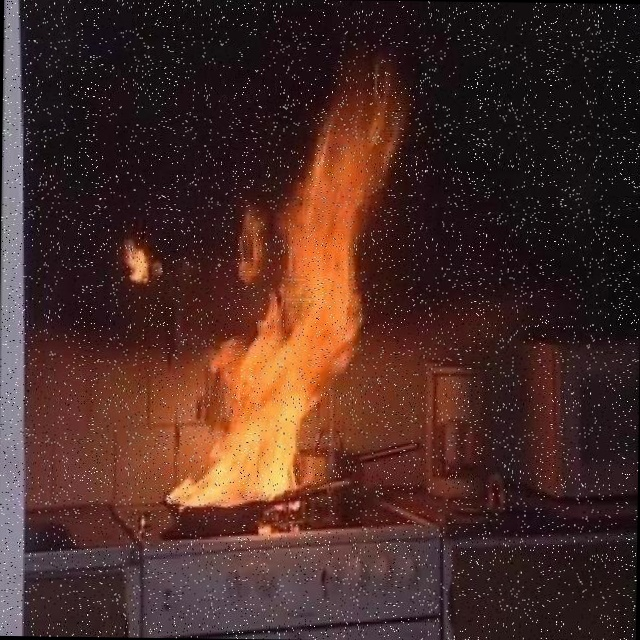fire: (100, 71, 419, 553)
